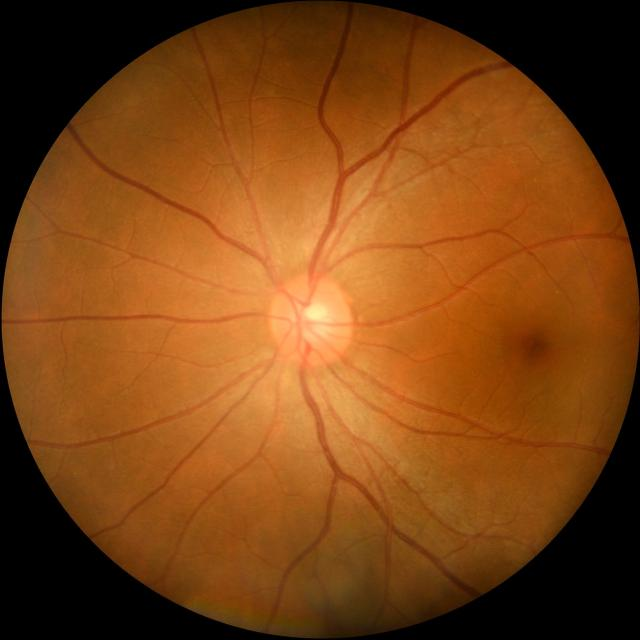OC: (296, 303, 332, 343)
OD: (270, 275, 352, 364)
